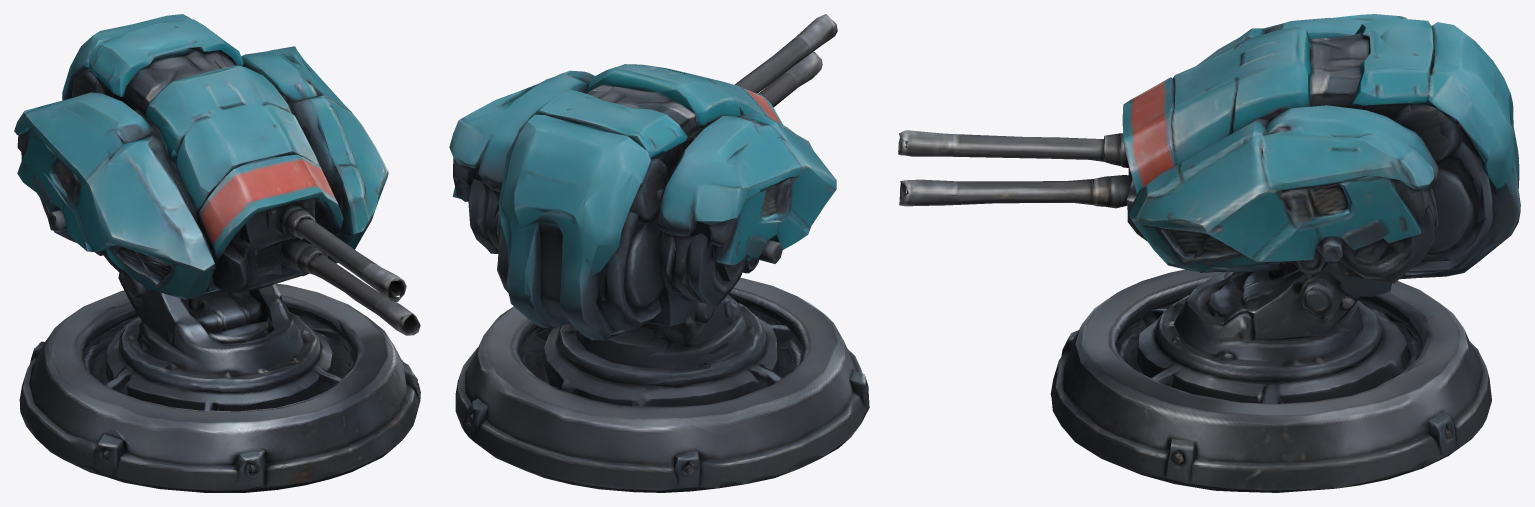
File: turret.glb
The picture shows the model from 3 angles, left to right: view 1: azimuth 30°, elevation 25°; view 2: azimuth 150°, elevation 25°; view 3: azimuth 270°, elevation 25°; orthographic projection. The views are drawn at different scales.
Visible parts, largest first — view 1: Mesh; view 2: Mesh; view 3: Mesh.
Part boxes in pixels (bbox=[...]): Mesh: bbox=[14, 14, 420, 492]; Mesh: bbox=[449, 14, 869, 492]; Mesh: bbox=[898, 14, 1520, 492].
Size of the model in its own units: 1.32 by 1.21 by 1.89.
1 material, 1 textured.
